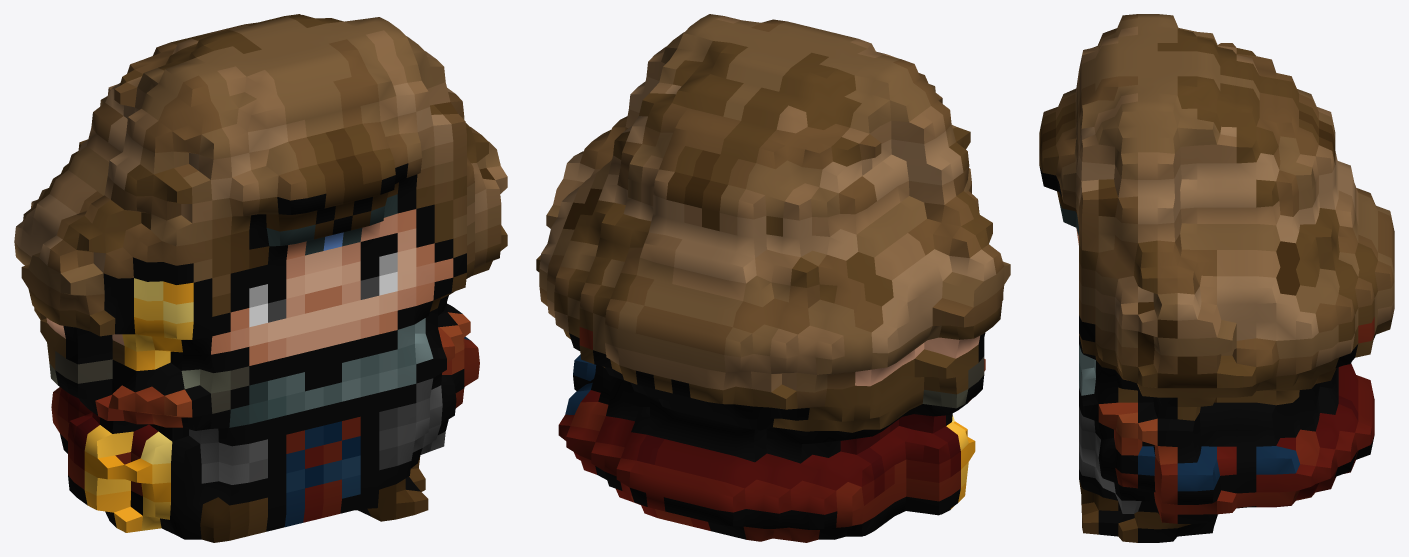
File: Icon_206_01.obj
3 renders of one model, left to right at view 1: azimuth 30°, elevation 25°; view 2: azimuth 150°, elevation 25°; view 3: azimuth 270°, elevation 25°, orthographic. The views are drawn at different scales.
Bounding box in the file's own units: 2.4 × 2.4 × 1.8.
Materials: 1 (1 with a texture image).
